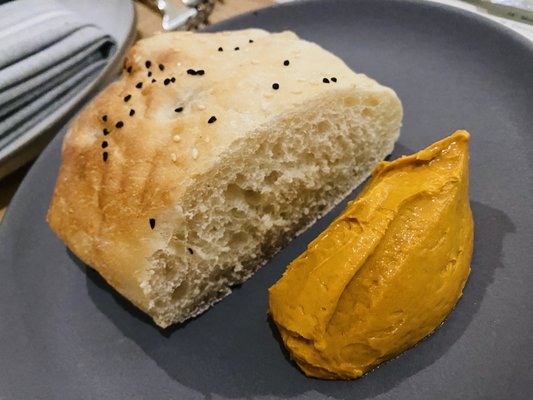pasta: (265, 129, 475, 382)
